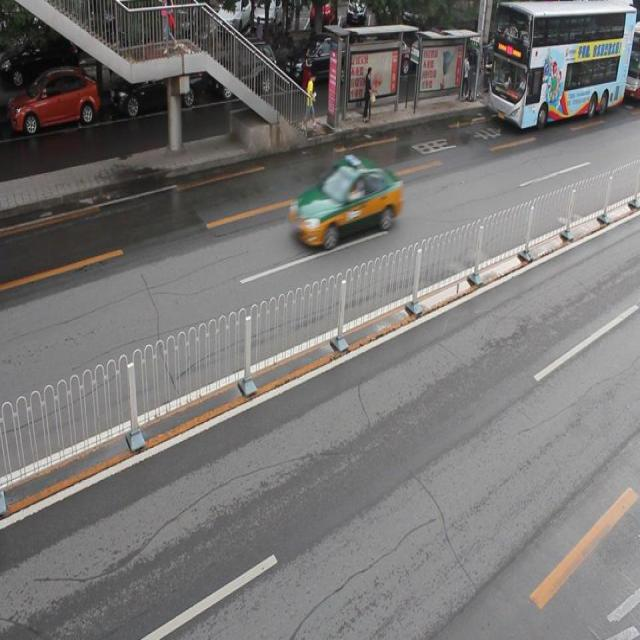car: (293, 156, 402, 246), (110, 49, 201, 116), (11, 70, 100, 134), (212, 38, 278, 101), (284, 32, 354, 89)
van: (485, 1, 632, 127)
